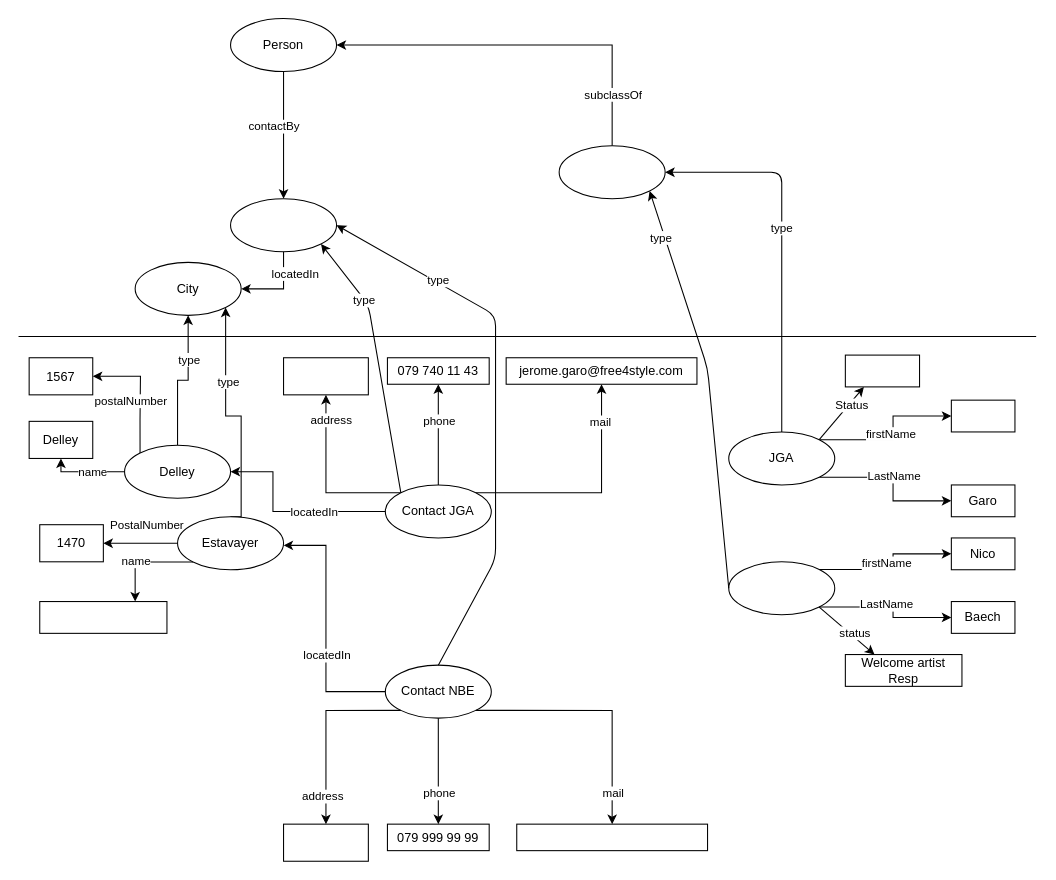
The diagram is 1056 pixels wide and 880 high, and some of its shapes have lost their labels. The shapes that lost their labels are listed below. From the top down, each one's box as (x1, y1, x2, y2) in pixels, then its label:
(558, 145, 665, 199): Organizer
(229, 198, 337, 252): Contact
(282, 357, 368, 395): Route de Portalban 2
(844, 354, 920, 387): F&B Resp
(950, 399, 1015, 432): Jérôme
(728, 561, 835, 615): NBE
(39, 600, 167, 633): Estavayer-le-Lac
(282, 823, 368, 861): Route de la Rochette
(516, 823, 708, 851): nico.baech@free4style.com
